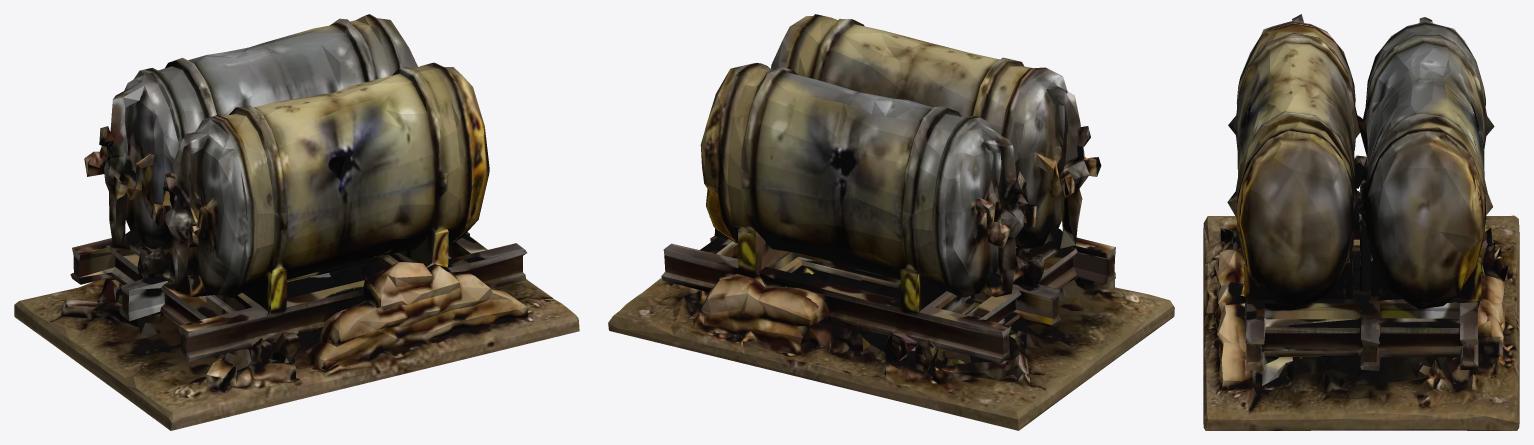
File: outpost-fuel-tanks.glb
The picture shows the model from 3 angles, left to right: view 1: azimuth 30°, elevation 25°; view 2: azimuth 150°, elevation 25°; view 3: azimuth 270°, elevation 25°; orthographic projection.
Parts seen in each view (by area): view 1: tmpyykrxmb9.ply; view 2: tmpyykrxmb9.ply; view 3: tmpyykrxmb9.ply.
Boxes of the visible parts, box(x1,y1,x2,y2) form: tmpyykrxmb9.ply: box(14, 14, 579, 430); tmpyykrxmb9.ply: box(608, 14, 1174, 430); tmpyykrxmb9.ply: box(1203, 14, 1519, 430).
Bounding box in the file's own units: 3 × 1.8 × 2.
1 material, 1 textured.
